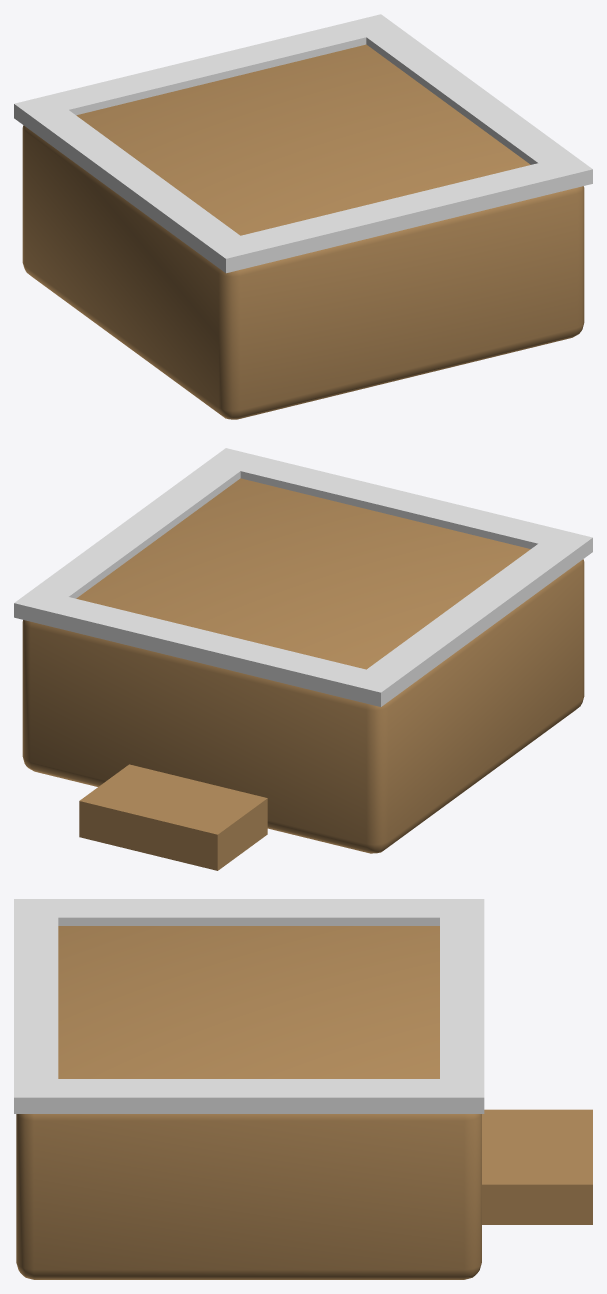
The model's file is home.lodge.hot_tub.glb.
3 renders of one model, top to bottom at view 1: azimuth 30°, elevation 25°; view 2: azimuth 150°, elevation 25°; view 3: azimuth 270°, elevation 25°, orthographic. The views are drawn at different scales.
Visible parts, largest first — view 1: main__softwood, main__plastic_white; view 2: main__softwood, main__plastic_white; view 3: main__softwood, main__plastic_white.
Part boxes in pixels (left/top/right/bottom): main__softwood: left=22, top=44, right=584, bottom=419; main__plastic_white: left=14, top=14, right=592, bottom=273; main__softwood: left=22, top=478, right=584, bottom=870; main__plastic_white: left=14, top=448, right=592, bottom=706; main__softwood: left=16, top=926, right=592, bottom=1279; main__plastic_white: left=14, top=899, right=484, bottom=1113.
Size of the model in its own units: 2.12 by 0.94 by 2.61.
